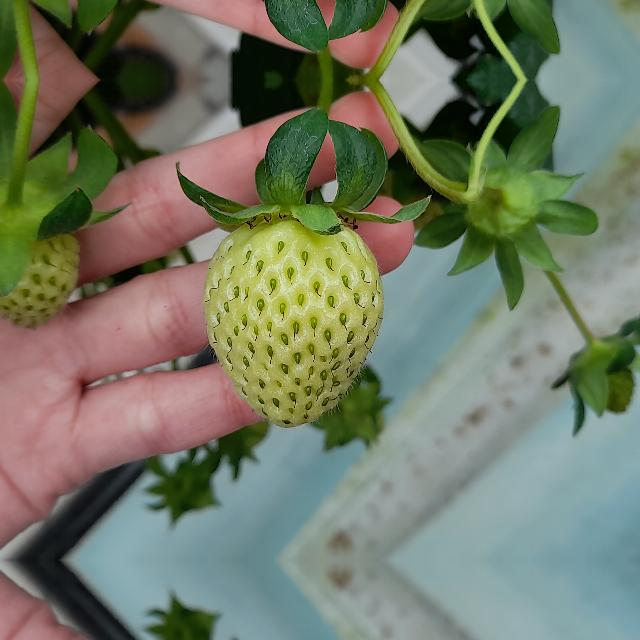Health_25: (202, 219, 384, 427), (0, 182, 78, 326)
